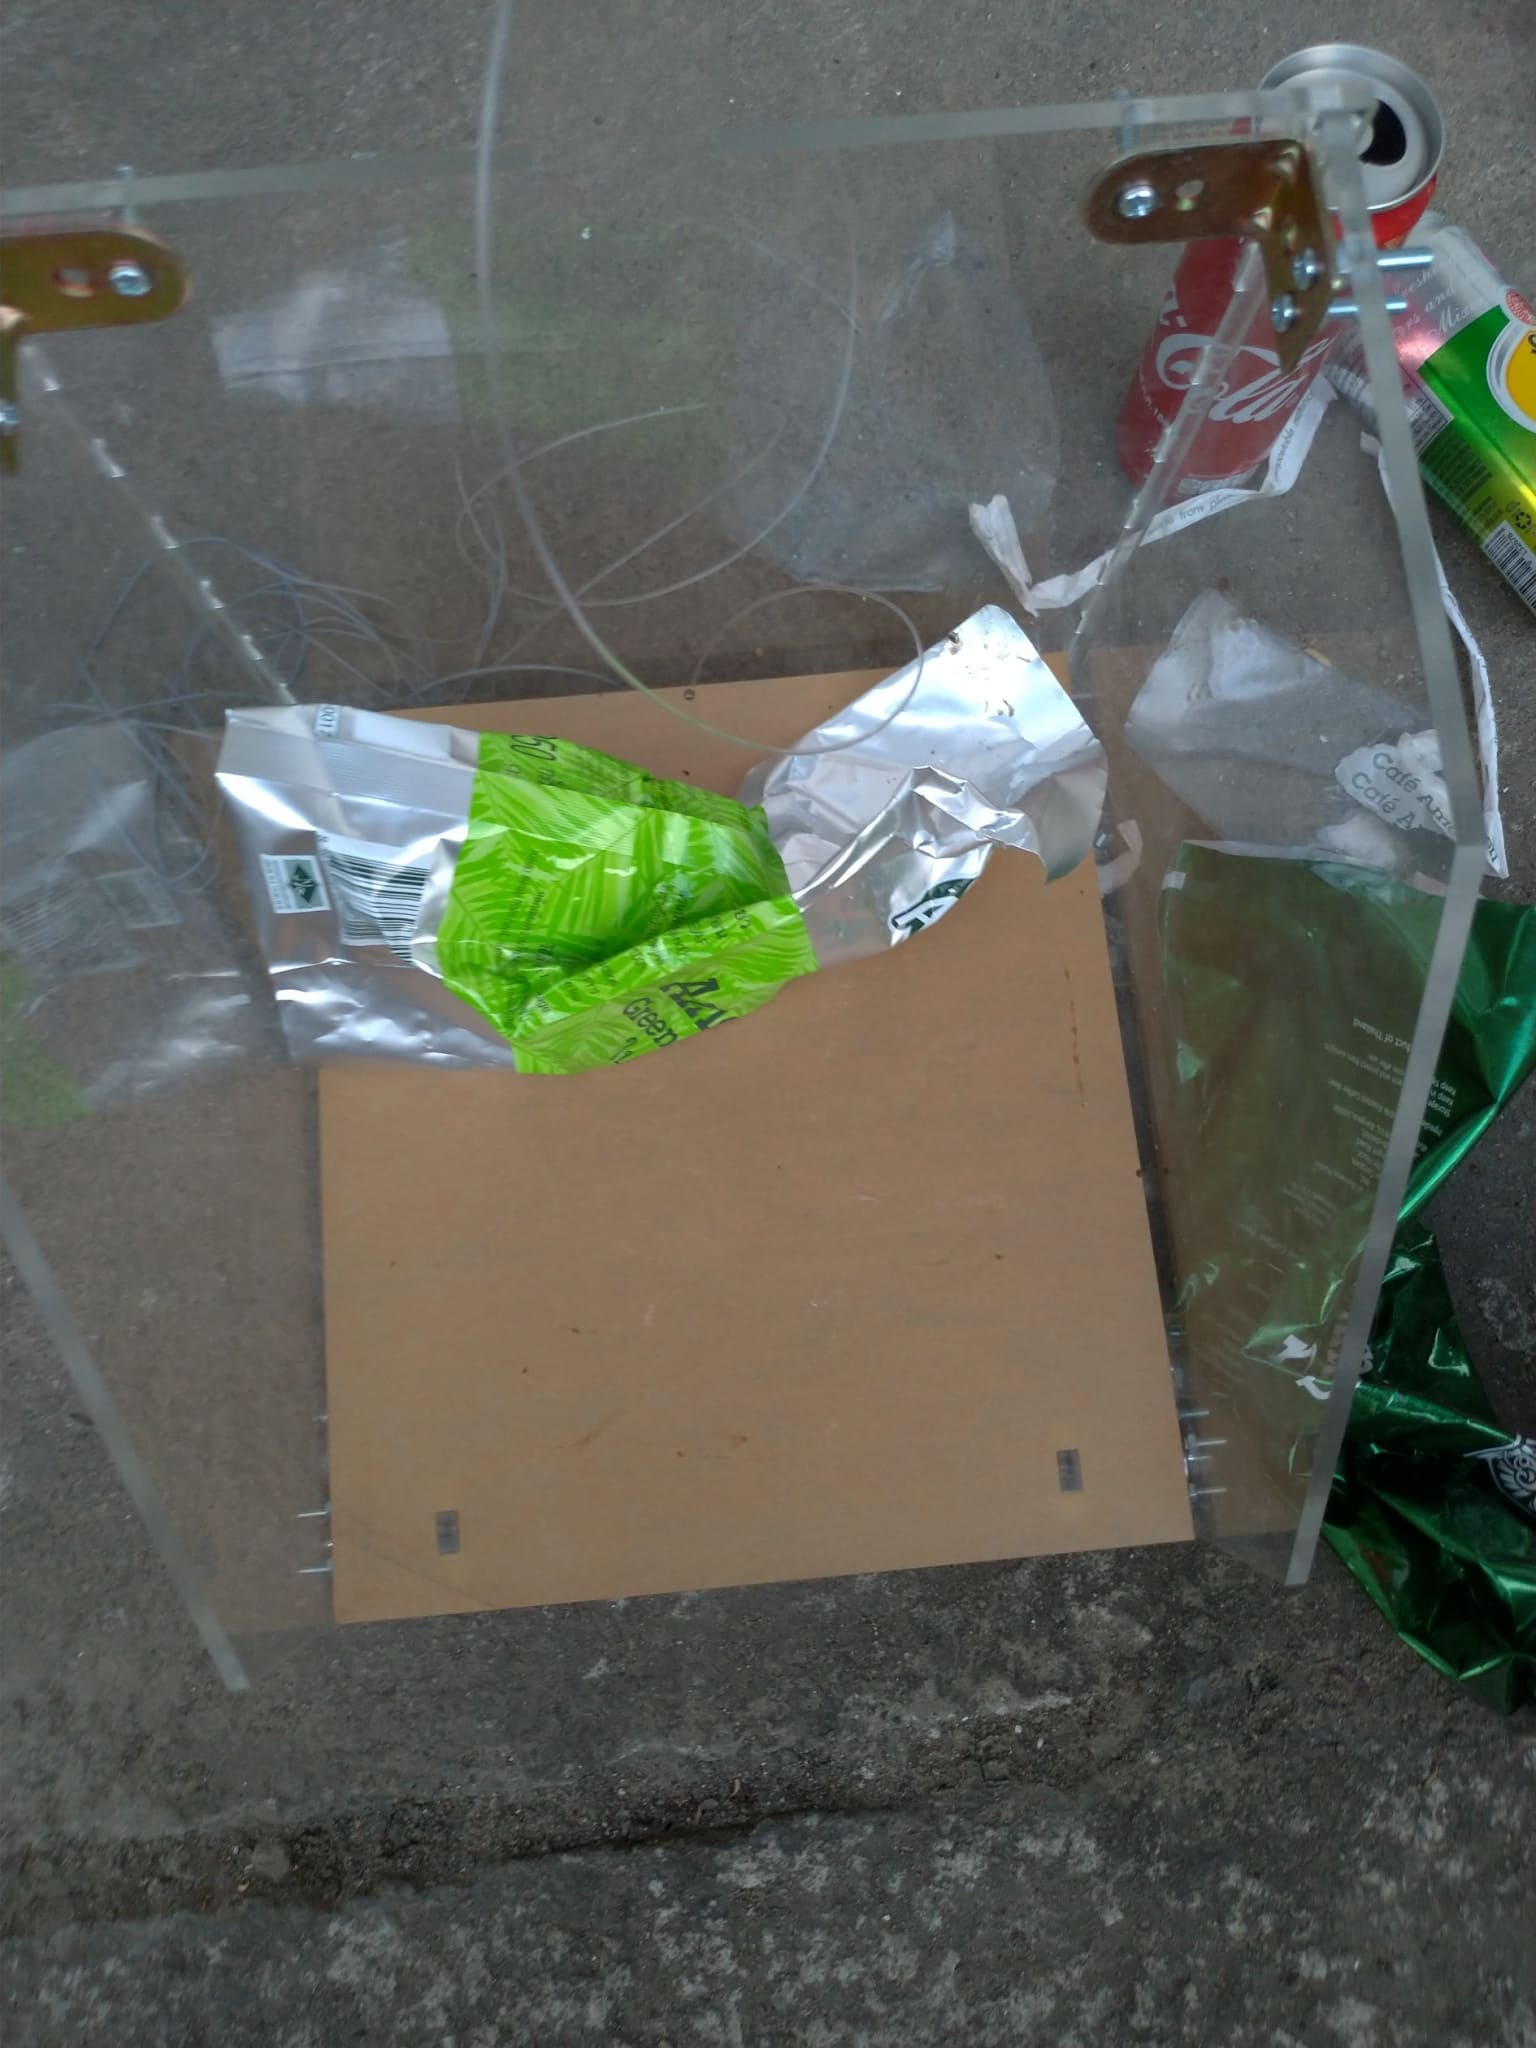AlCan: (1113, 45, 1447, 502), (1383, 214, 1536, 597)
Others: (213, 608, 1100, 1077), (1150, 835, 1536, 1701), (970, 398, 1341, 598), (1344, 489, 1517, 851)
